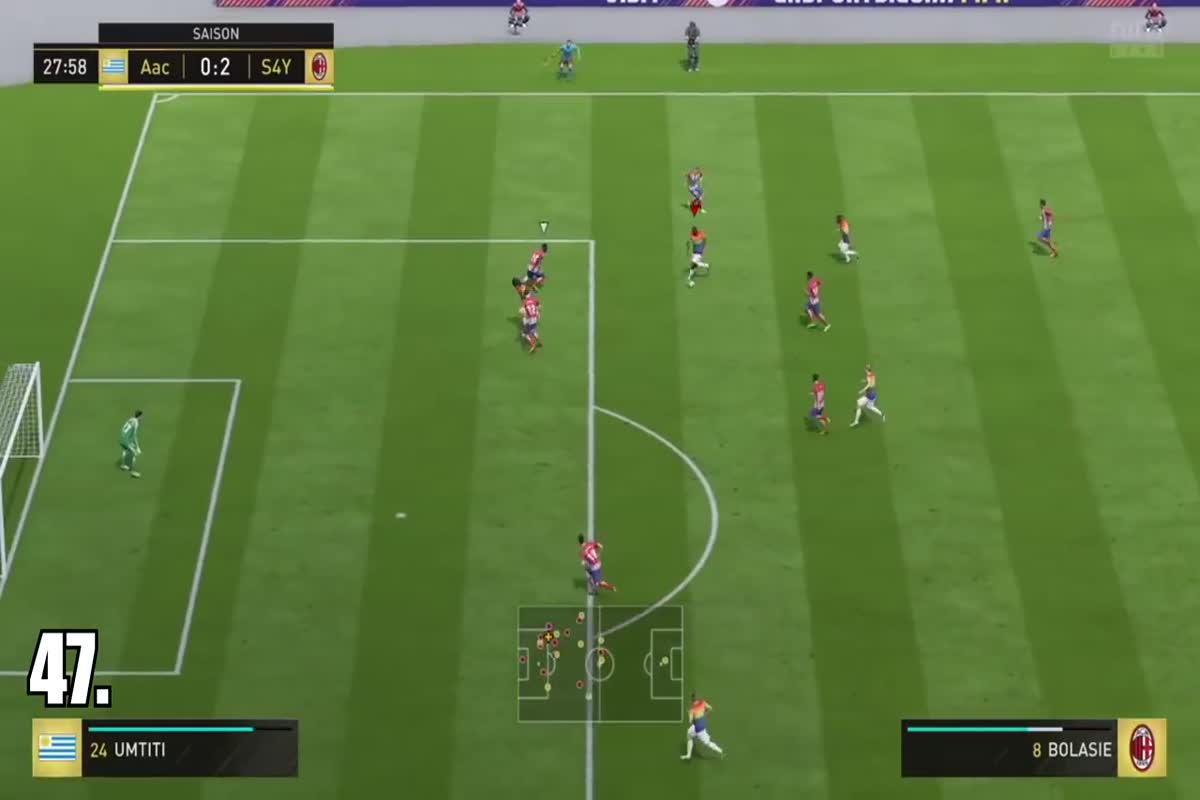ball: (680, 274, 709, 295)
